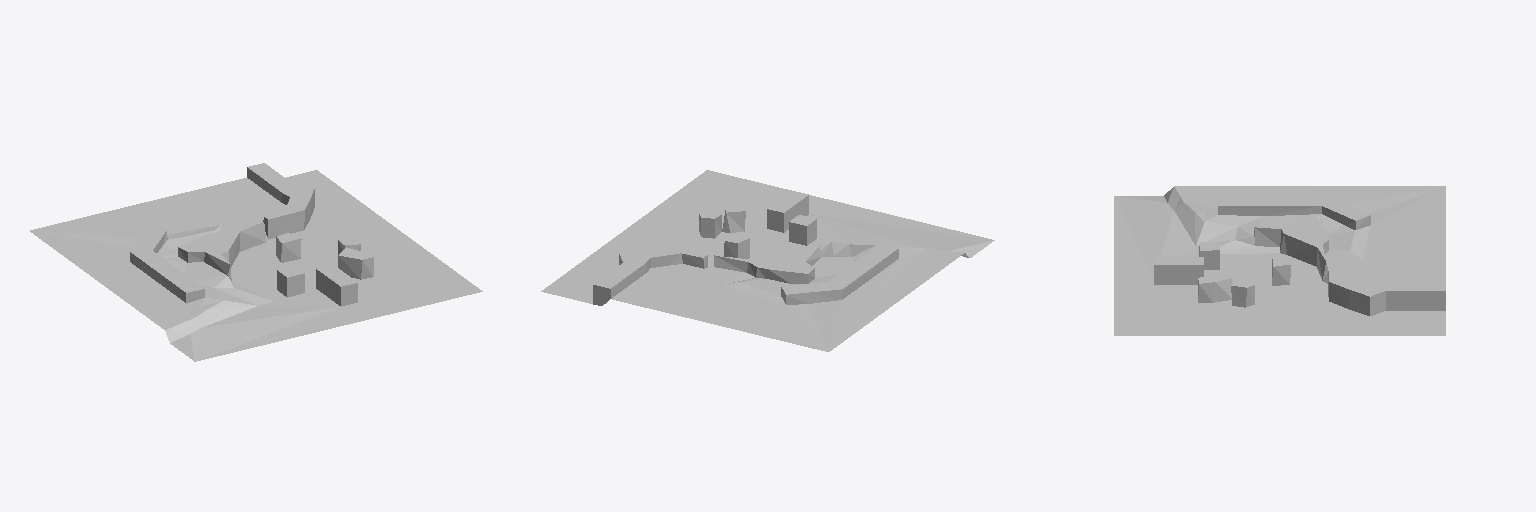
Rendered from ForsetLevelV2Nav.obj.
3 renders of one model, left to right at view 1: azimuth 30°, elevation 25°; view 2: azimuth 150°, elevation 25°; view 3: azimuth 270°, elevation 25°, orthographic.
Visible parts, largest first — view 1: NavSimple_Plane; view 2: NavSimple_Plane; view 3: NavSimple_Plane.
Boxes of the visible parts, <box> form: NavSimple_Plane: <box>30,163,482,361</box>; NavSimple_Plane: <box>541,170,994,351</box>; NavSimple_Plane: <box>1114,186,1445,335</box>.
Size of the model in its own units: 19 by 1.25 by 19.